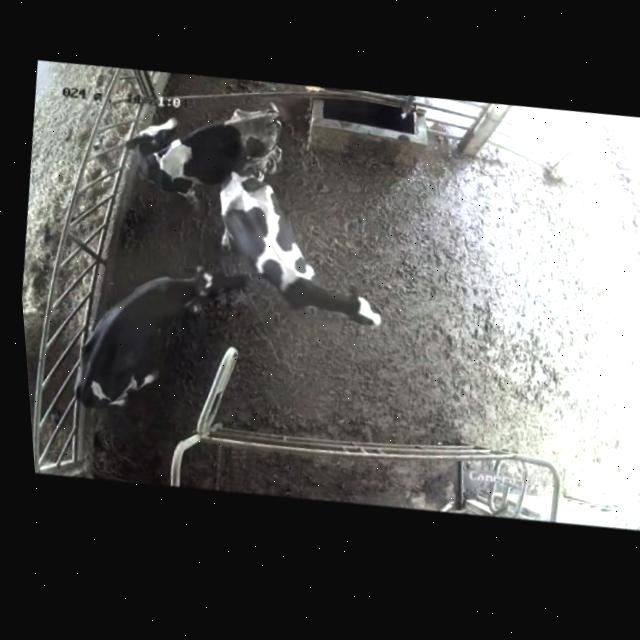lay: (68, 246, 271, 432)
stand: (197, 171, 422, 351), (117, 92, 305, 213)
